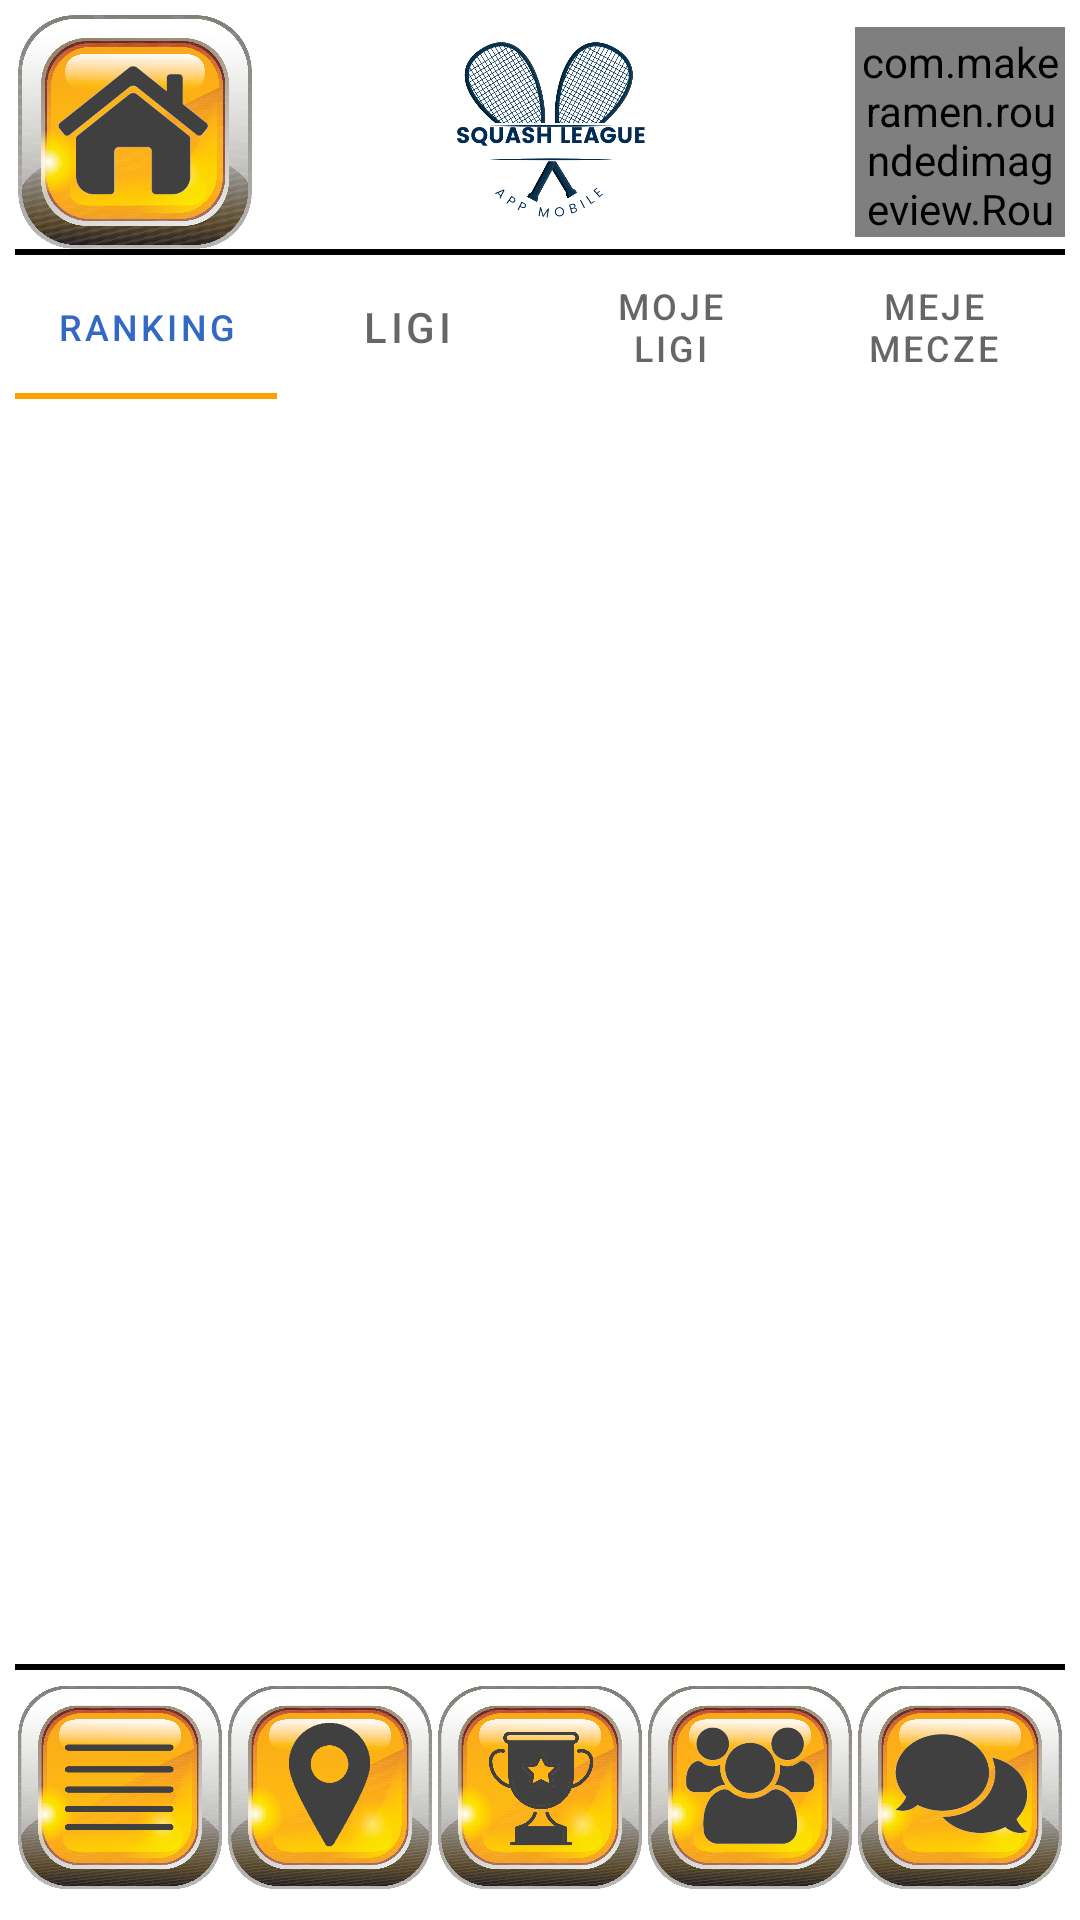

Named icons in this screenshot (1080 x 1920) and their bounding boxes, [x1, y1, x2, y2]:
Home: [18, 15, 252, 249]
Mapa: [228, 1686, 432, 1889]
Menu: [18, 1686, 222, 1889]
Ranking: [438, 1686, 642, 1889]
Społeczność: [648, 1686, 852, 1889]
Wiadomości: [858, 1686, 1062, 1889]
